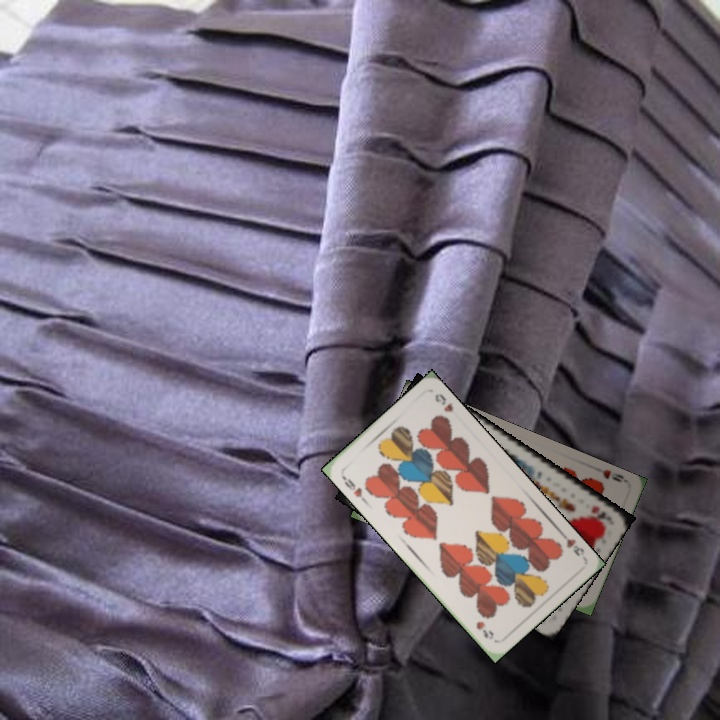H9: (338, 471, 368, 505), (556, 527, 587, 559), (590, 463, 629, 485)
HK: (587, 501, 609, 522)
